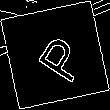P_NW: (24, 25, 86, 85)
